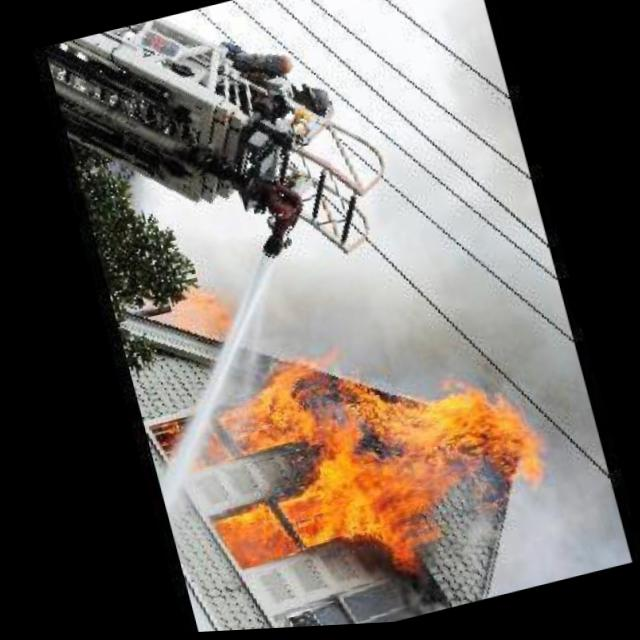Fire: (175, 318, 569, 620)
